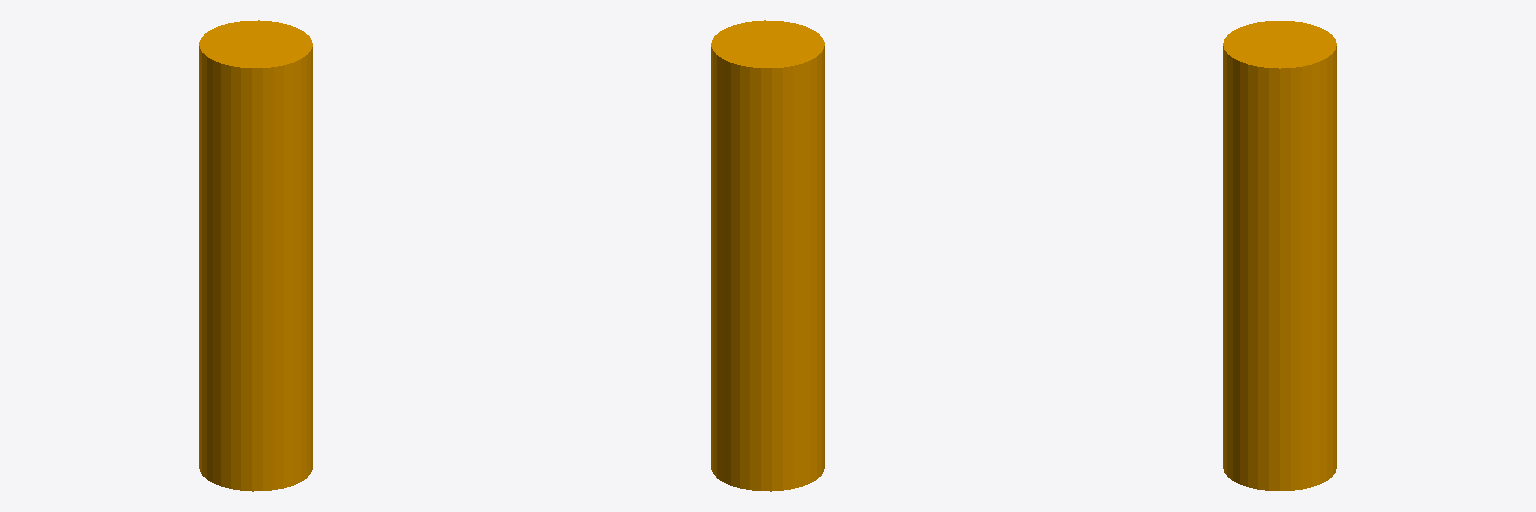
The robot description file, URDF, robot "donut":
<?xml version="1.0"?>
<robot name="donut">

  <link name="base_link">
    <visual>
      <geometry>
        <mesh filename="package://physical-experiment/downsampled4blender/Fglue.stl" scale="10 10 10"/>
      </geometry>
    </visual>
    <collision>
      <geometry>
        <mesh filename="package://physical-experiment/downsampled4blender/Fglue.stl" scale="10 10 10"/>
      </geometry>
    </collision>
  </link>

</robot>

--- Facts derived from the render (not from the file) ---
3 views of the same robot in one strip: view 1: azimuth 30°, elevation 25°; view 2: azimuth 150°, elevation 25°; view 3: azimuth 270°, elevation 25° (orthographic).
Model donut with 1 links and 0 joints (none), rooted at base_link, posed all joints at 0.
Links seen in each view (by area): view 1: base_link; view 2: base_link; view 3: base_link.
Link boxes in pixels (x1,y1,x2,y2): base_link: (199, 20, 312, 491); base_link: (711, 20, 824, 491); base_link: (1223, 21, 1336, 490).
Size in the robot's own frame: 0.2586 by 0.2586 by 1.06 metres.
Meshes: 1 distinct files referenced, 1 mesh visuals loaded (1 binary STL).